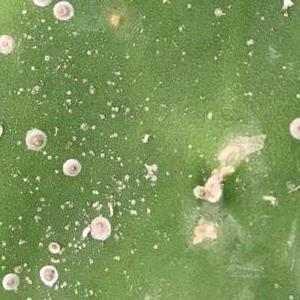Femea: (89, 215, 111, 241), (26, 130, 43, 150), (63, 158, 80, 176), (38, 267, 58, 281), (0, 35, 13, 52), (55, 4, 71, 17), (1, 276, 18, 288), (49, 243, 61, 255)
Linfa: (111, 178, 129, 191), (106, 97, 119, 112), (140, 130, 150, 145), (85, 81, 96, 94), (109, 68, 123, 78), (32, 173, 42, 184), (29, 85, 39, 95), (111, 255, 122, 264), (102, 79, 116, 86), (62, 97, 74, 105), (32, 213, 40, 225), (83, 47, 91, 58), (127, 209, 140, 215), (130, 197, 137, 208), (245, 38, 254, 46), (213, 9, 223, 16), (107, 112, 117, 119), (16, 87, 24, 95), (28, 64, 35, 72), (89, 123, 95, 131), (64, 90, 71, 96)
Macho: (259, 191, 279, 204), (79, 223, 92, 238), (105, 200, 115, 213)
